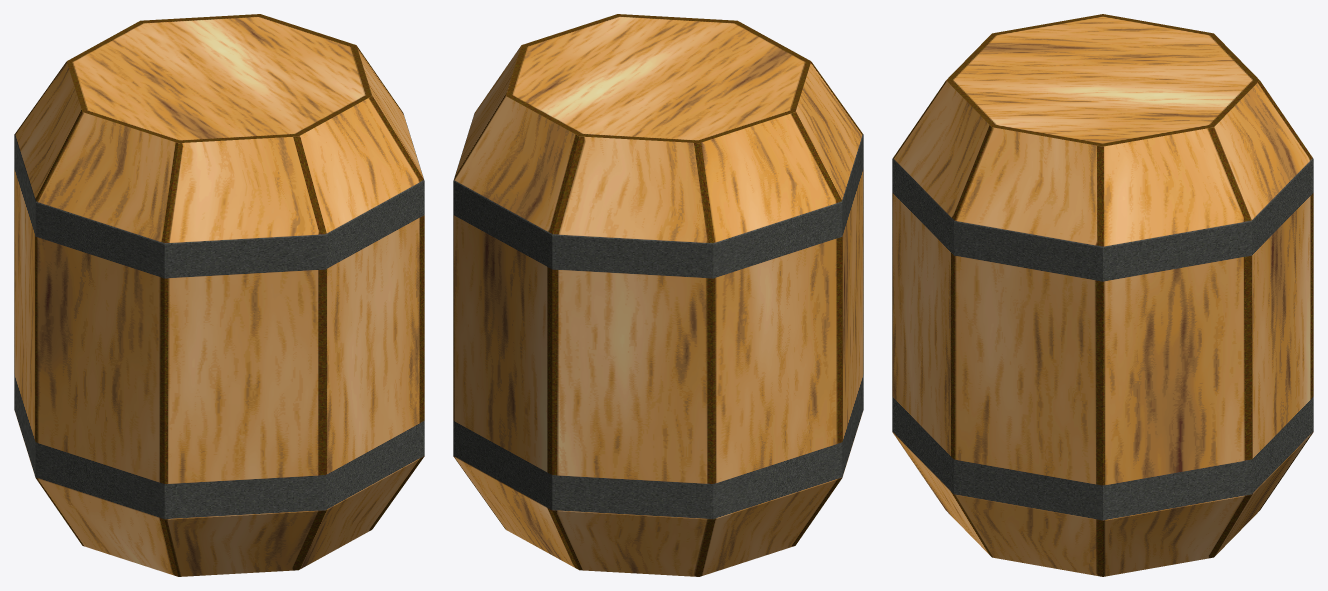
File: barrel.fbx
3 renders of one model, left to right at view 1: azimuth 30°, elevation 25°; view 2: azimuth 150°, elevation 25°; view 3: azimuth 270°, elevation 25°, orthographic.
Parts seen in each view (by area): view 1: Barrel; view 2: Barrel; view 3: Barrel.
Part boxes in pixels (x1,y1,x2,y2): Barrel: (14, 14, 424, 576); Barrel: (453, 14, 863, 576); Barrel: (892, 14, 1313, 576).
Size of the model in its own units: 200 by 225 by 200.
1 material, 1 textured.
